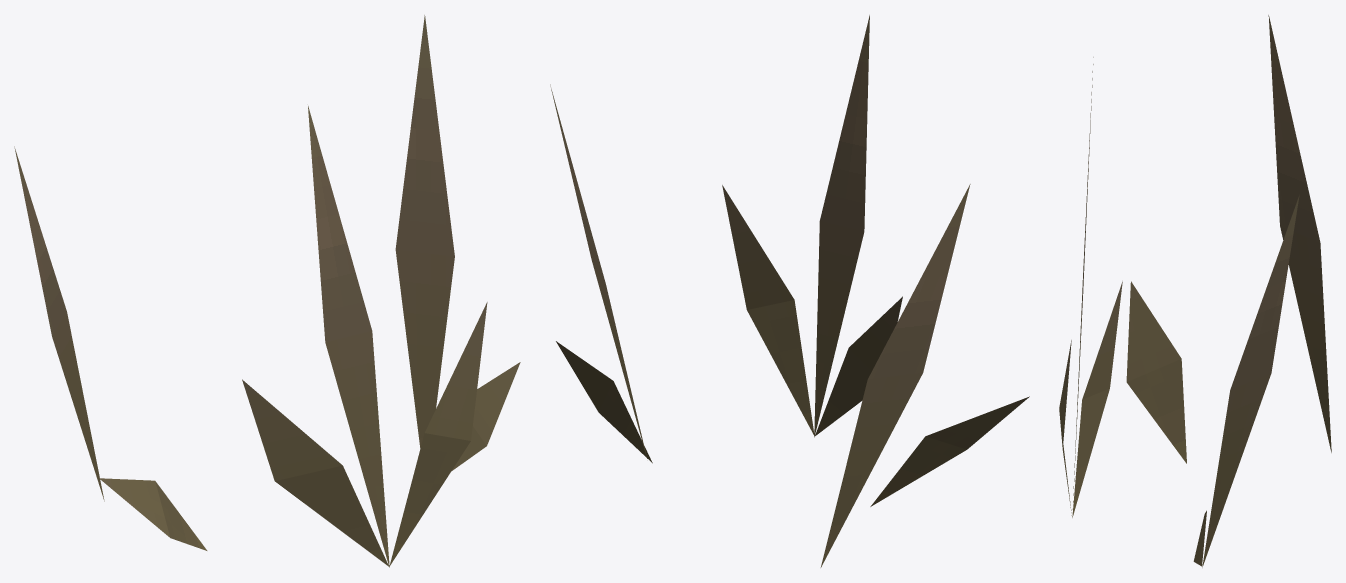
File: plants_me_level_grass21.gltf
The picture shows the model from 3 angles, left to right: view 1: azimuth 30°, elevation 25°; view 2: azimuth 150°, elevation 25°; view 3: azimuth 270°, elevation 25°; orthographic projection. The views are drawn at different scales.
Visible parts, largest first — view 1: um_plants_me_level_grass21_model_plants_me_level_grass21_mod; view 2: um_plants_me_level_grass21_model_plants_me_level_grass21_mod; view 3: um_plants_me_level_grass21_model_plants_me_level_grass21_mod.
Boxes of the visible parts, x1=… form: um_plants_me_level_grass21_model_plants_me_level_grass21_mod: x1=14, y1=15, x2=520, y2=567; um_plants_me_level_grass21_model_plants_me_level_grass21_mod: x1=550, y1=15, x2=1029, y2=567; um_plants_me_level_grass21_model_plants_me_level_grass21_mod: x1=1059, y1=15, x2=1331, y2=567.
Size of the model in its own units: 0.4698 by 0.45 by 0.2521.
1 material, 1 textured.
